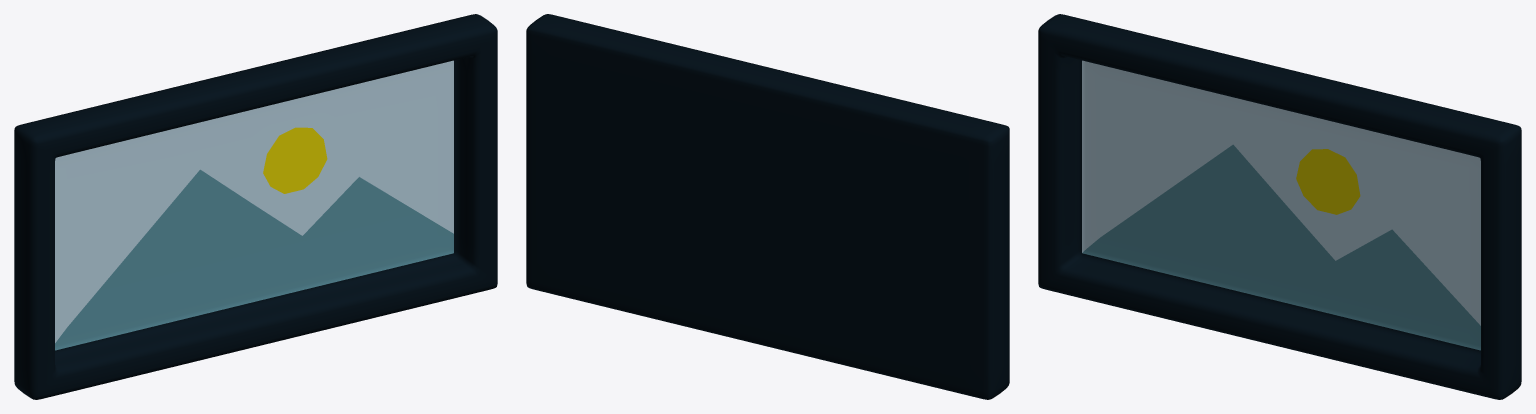
Rendered from Figura 2.fbx.
3 views of the same model, side by side, from view 1: azimuth 30°, elevation 25°; view 2: azimuth 150°, elevation 25°; view 3: azimuth 330°, elevation 25° (orthographic).
Parts seen in each view (by area): view 1: Cube.005; view 2: Cube.005; view 3: Cube.005.
Part boxes in pixels (x1=…): Cube.005: x1=14, y1=14, x2=497, y2=399; Cube.005: x1=526, y1=14, x2=1009, y2=399; Cube.005: x1=1038, y1=14, x2=1521, y2=399.
Bounding box in the file's own units: 174 × 94.23 × 13.5.
